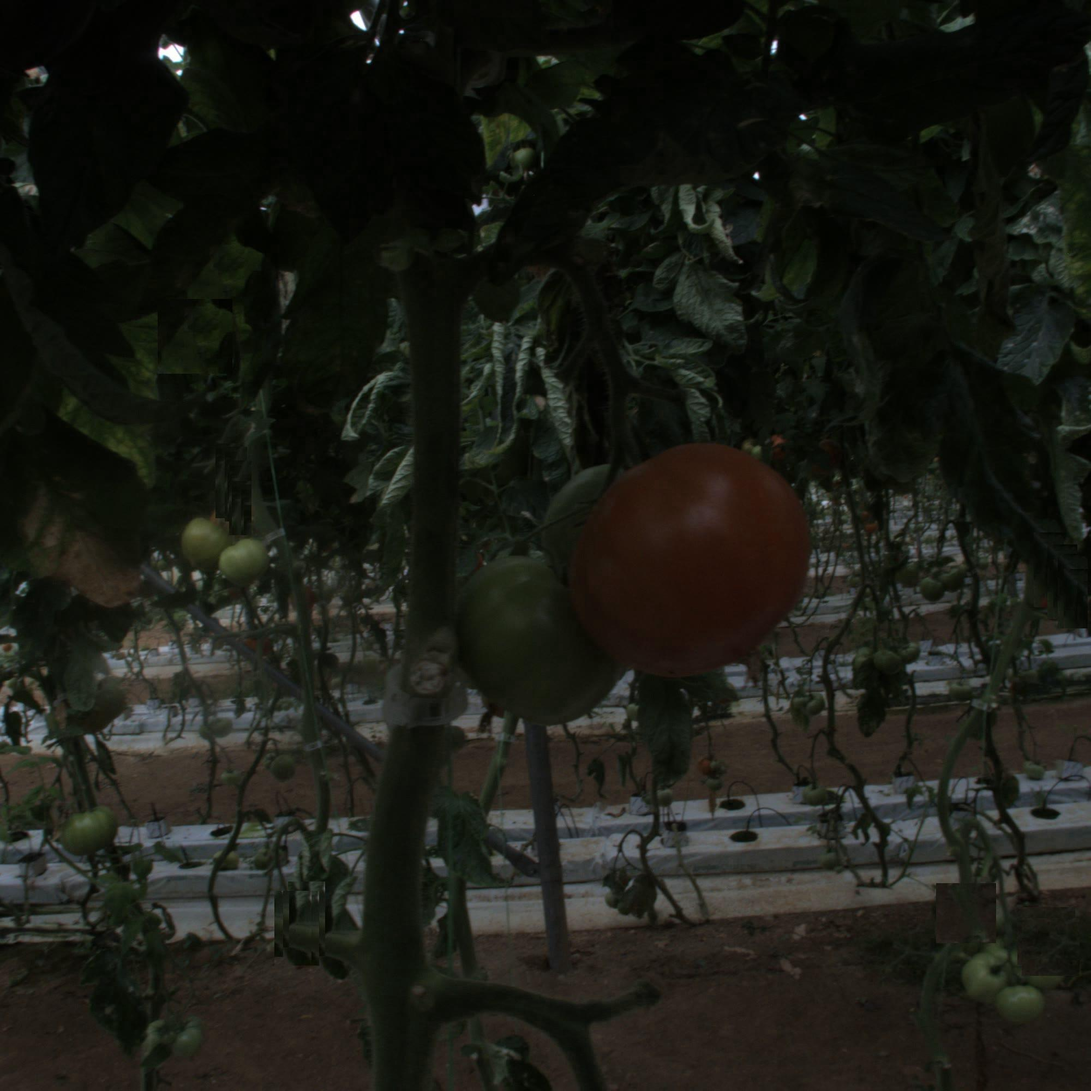fully-ripe: (570, 435, 817, 681)
unripe: (455, 560, 616, 721), (988, 979, 1045, 1036), (60, 801, 117, 858), (959, 950, 1016, 1006), (218, 534, 272, 589), (181, 517, 225, 561)
